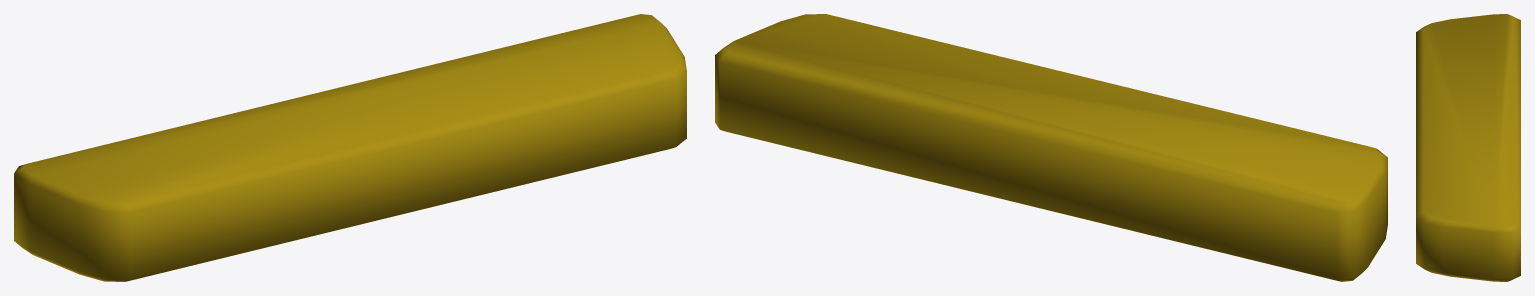
Rendered from elligible_direction_indicator.obj.
The picture shows the model from 3 angles, left to right: view 1: azimuth 30°, elevation 25°; view 2: azimuth 150°, elevation 25°; view 3: azimuth 270°, elevation 25°; orthographic projection. The views are drawn at different scales.
Parts seen in each view (by area): view 1: Circle; view 2: Circle; view 3: Circle.
Boxes of the visible parts, <box> form: Circle: <box>14,14,686,281</box>; Circle: <box>715,14,1387,281</box>; Circle: <box>1416,14,1520,281</box>.
Bounding box in the file's own units: 0.8127 × 0.0963 × 0.1666.
